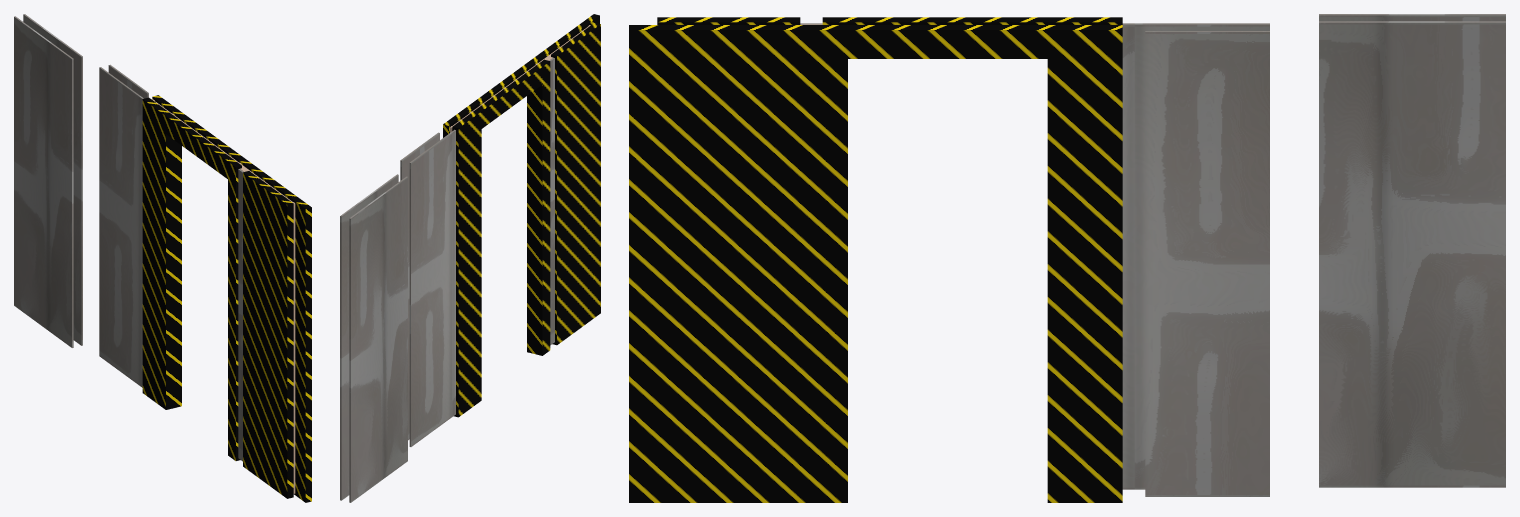
The model's file is WALLSET_M.FBX.
The picture shows the model from 3 angles, left to right: view 1: azimuth 30°, elevation 25°; view 2: azimuth 150°, elevation 25°; view 3: azimuth 270°, elevation 25°; orthographic projection. The views are drawn at different scales.
Parts seen in each view (by area): view 1: SELECTOR_05, DRYWALL_19, FRAME_138; view 2: DRYWALL_19, SELECTOR_05; view 3: DRYWALL_19, SELECTOR_05.
Boxes of the visible parts, left/top/right/bottom form: SELECTOR_05: left=142, top=95, right=311, bottom=502; DRYWALL_19: left=14, top=14, right=243, bottom=461; FRAME_138: left=152, top=99, right=295, bottom=493; DRYWALL_19: left=340, top=57, right=554, bottom=502; SELECTOR_05: left=443, top=14, right=600, bottom=417; DRYWALL_19: left=800, top=14, right=1505, bottom=496; SELECTOR_05: left=629, top=17, right=1122, bottom=502.
Bounding box in the file's own units: 8.18 × 90.28 × 152.
